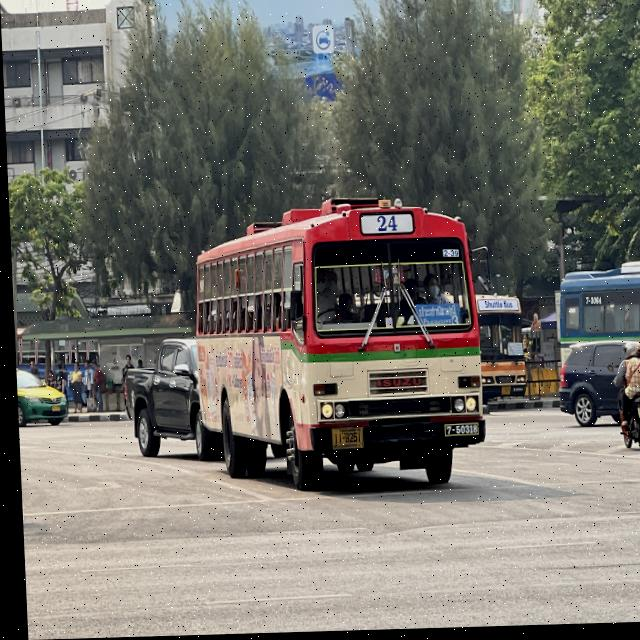BMTA-bus: (187, 200, 485, 497)
Bus-Line-Number: (356, 213, 415, 240)
Destination-Sign-Normal: (413, 306, 458, 330)
